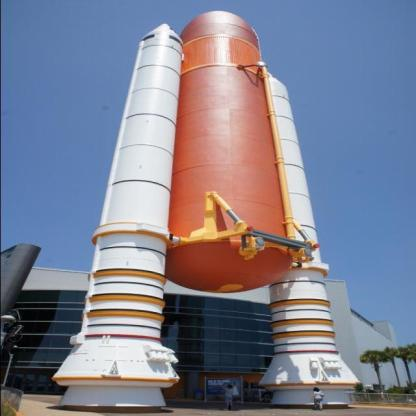MIL_TBM: (77, 23, 186, 388)
